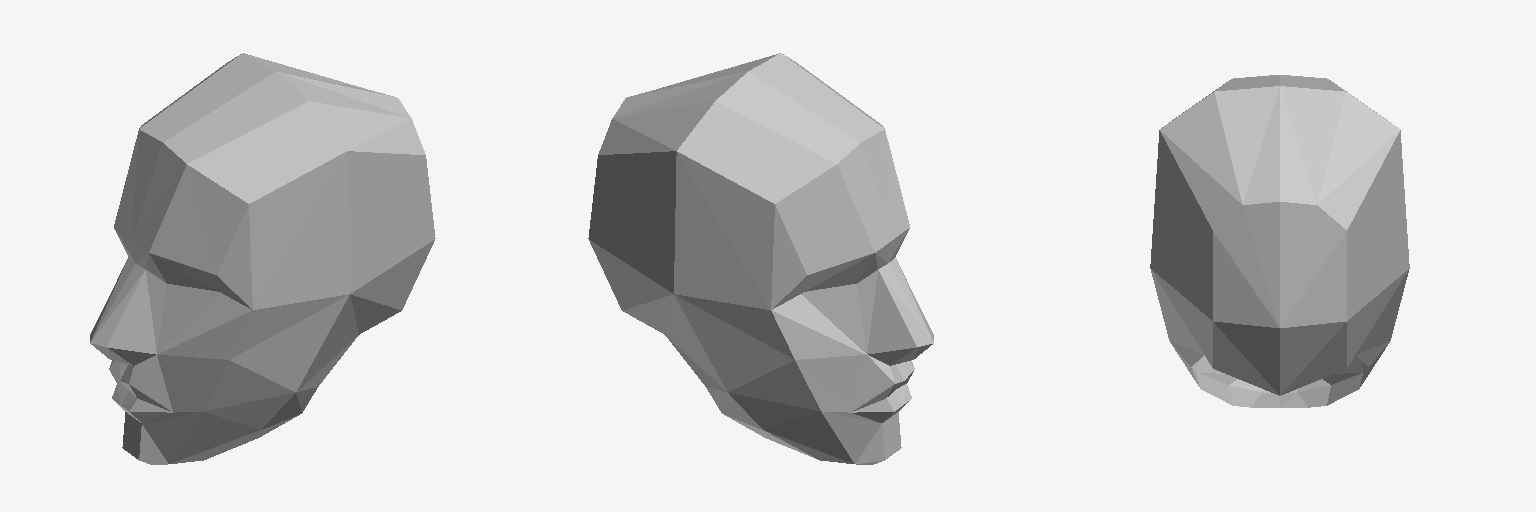
File: simple.obj
The picture shows the model from 3 angles: view 1: azimuth 30°, elevation 25°; view 2: azimuth 150°, elevation 25°; view 3: azimuth 270°, elevation 25°; orthographic projection.
Parts seen in each view (by area): view 1: Plane.011_Plane.022, Nose_Plane.002, EyeR_Plane.000, Mouth_Plane.001; view 2: Plane.011_Plane.022, Nose_Plane.002, EyeL_Plane.004, Mouth_Plane.001; view 3: Plane.011_Plane.022.
Part boxes in pixels (bbox=[...]): Plane.011_Plane.022: bbox=[109, 53, 435, 464]; Nose_Plane.002: bbox=[90, 257, 166, 365]; EyeR_Plane.000: bbox=[146, 253, 251, 309]; Mouth_Plane.001: bbox=[110, 371, 172, 422]; Plane.011_Plane.022: bbox=[588, 53, 914, 464]; Nose_Plane.002: bbox=[857, 257, 933, 365]; EyeL_Plane.004: bbox=[772, 253, 877, 309]; Mouth_Plane.001: bbox=[851, 371, 913, 422]; Plane.011_Plane.022: bbox=[1150, 75, 1409, 407].
Bounding box in the file's own units: 3.99 × 4.13 × 2.7.